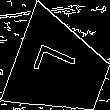L_E: (33, 45, 87, 93)
